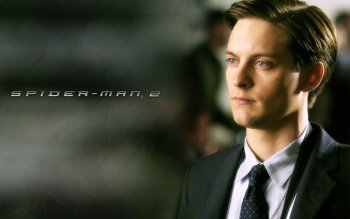noMask: (213, 4, 339, 132)
